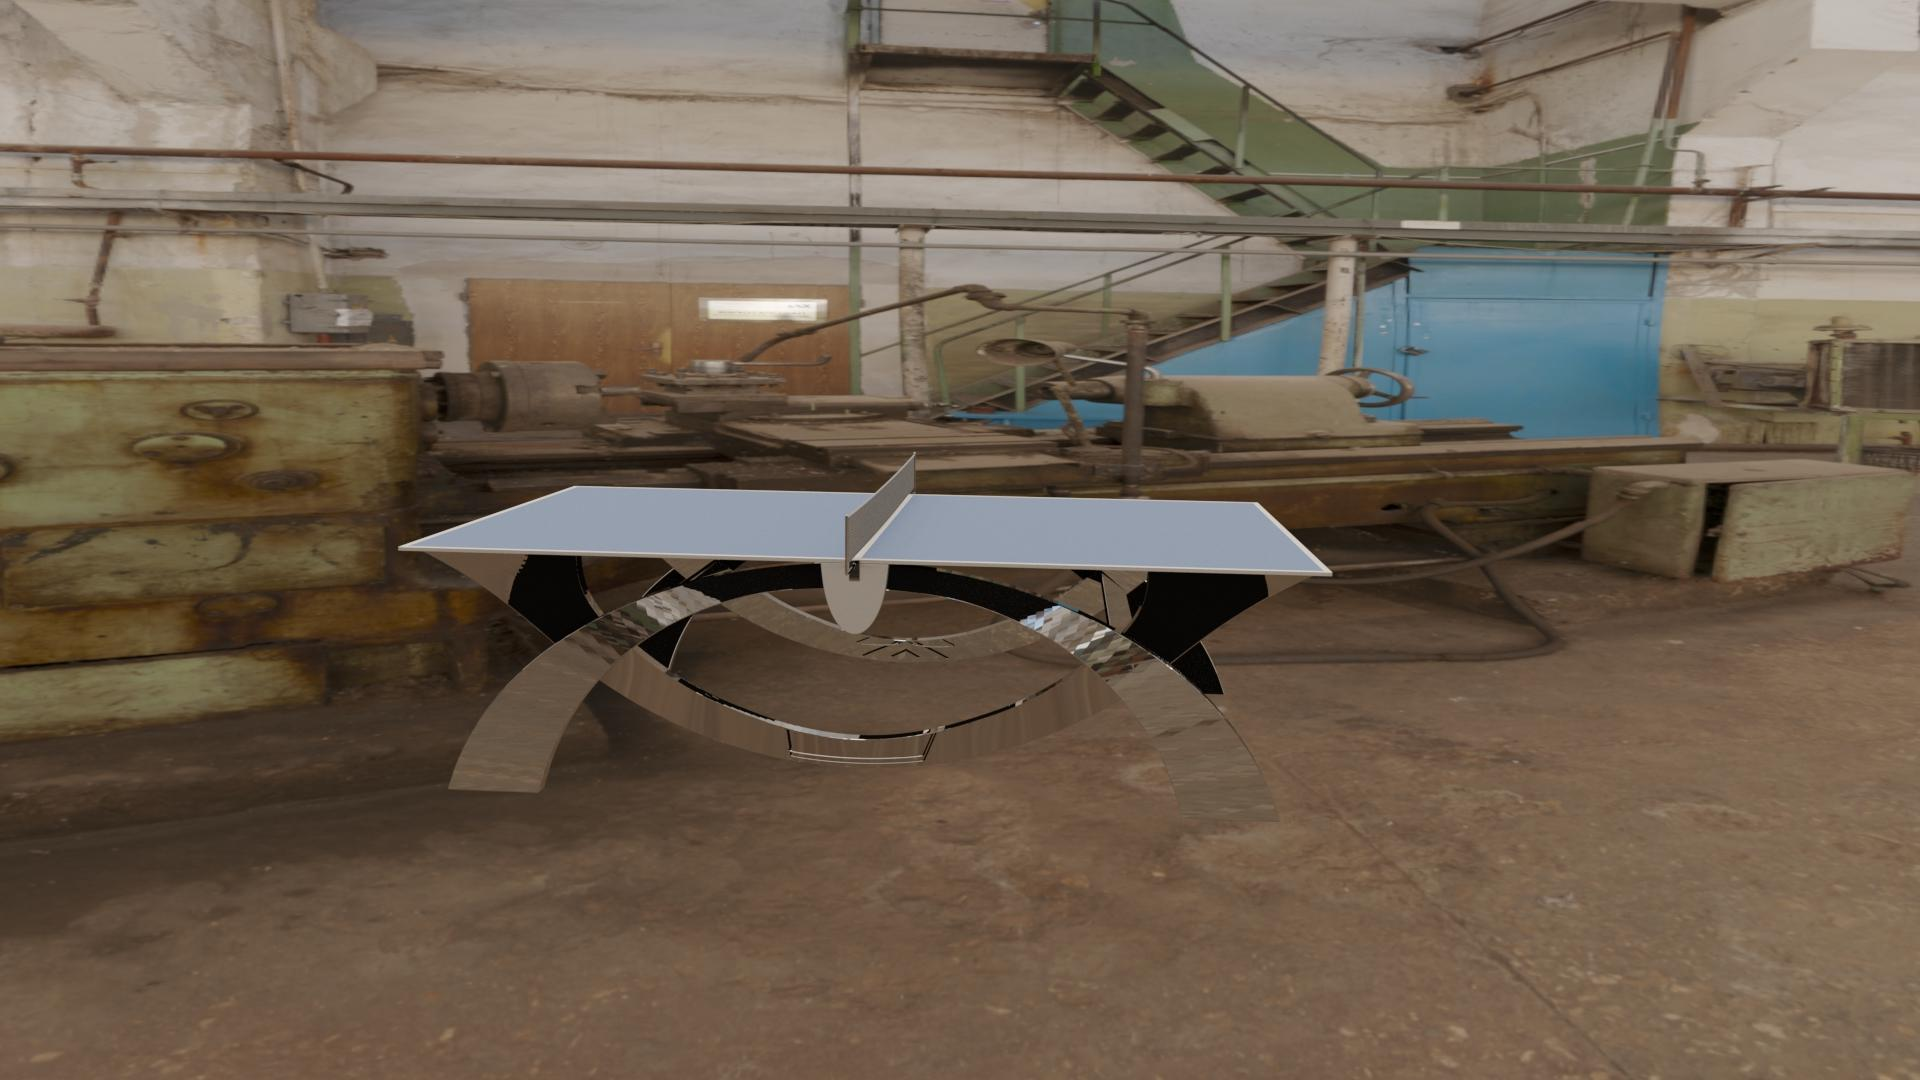table: (407, 487, 1324, 571)
